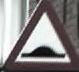Speed Breaker ahead: (9, 3, 71, 66)
